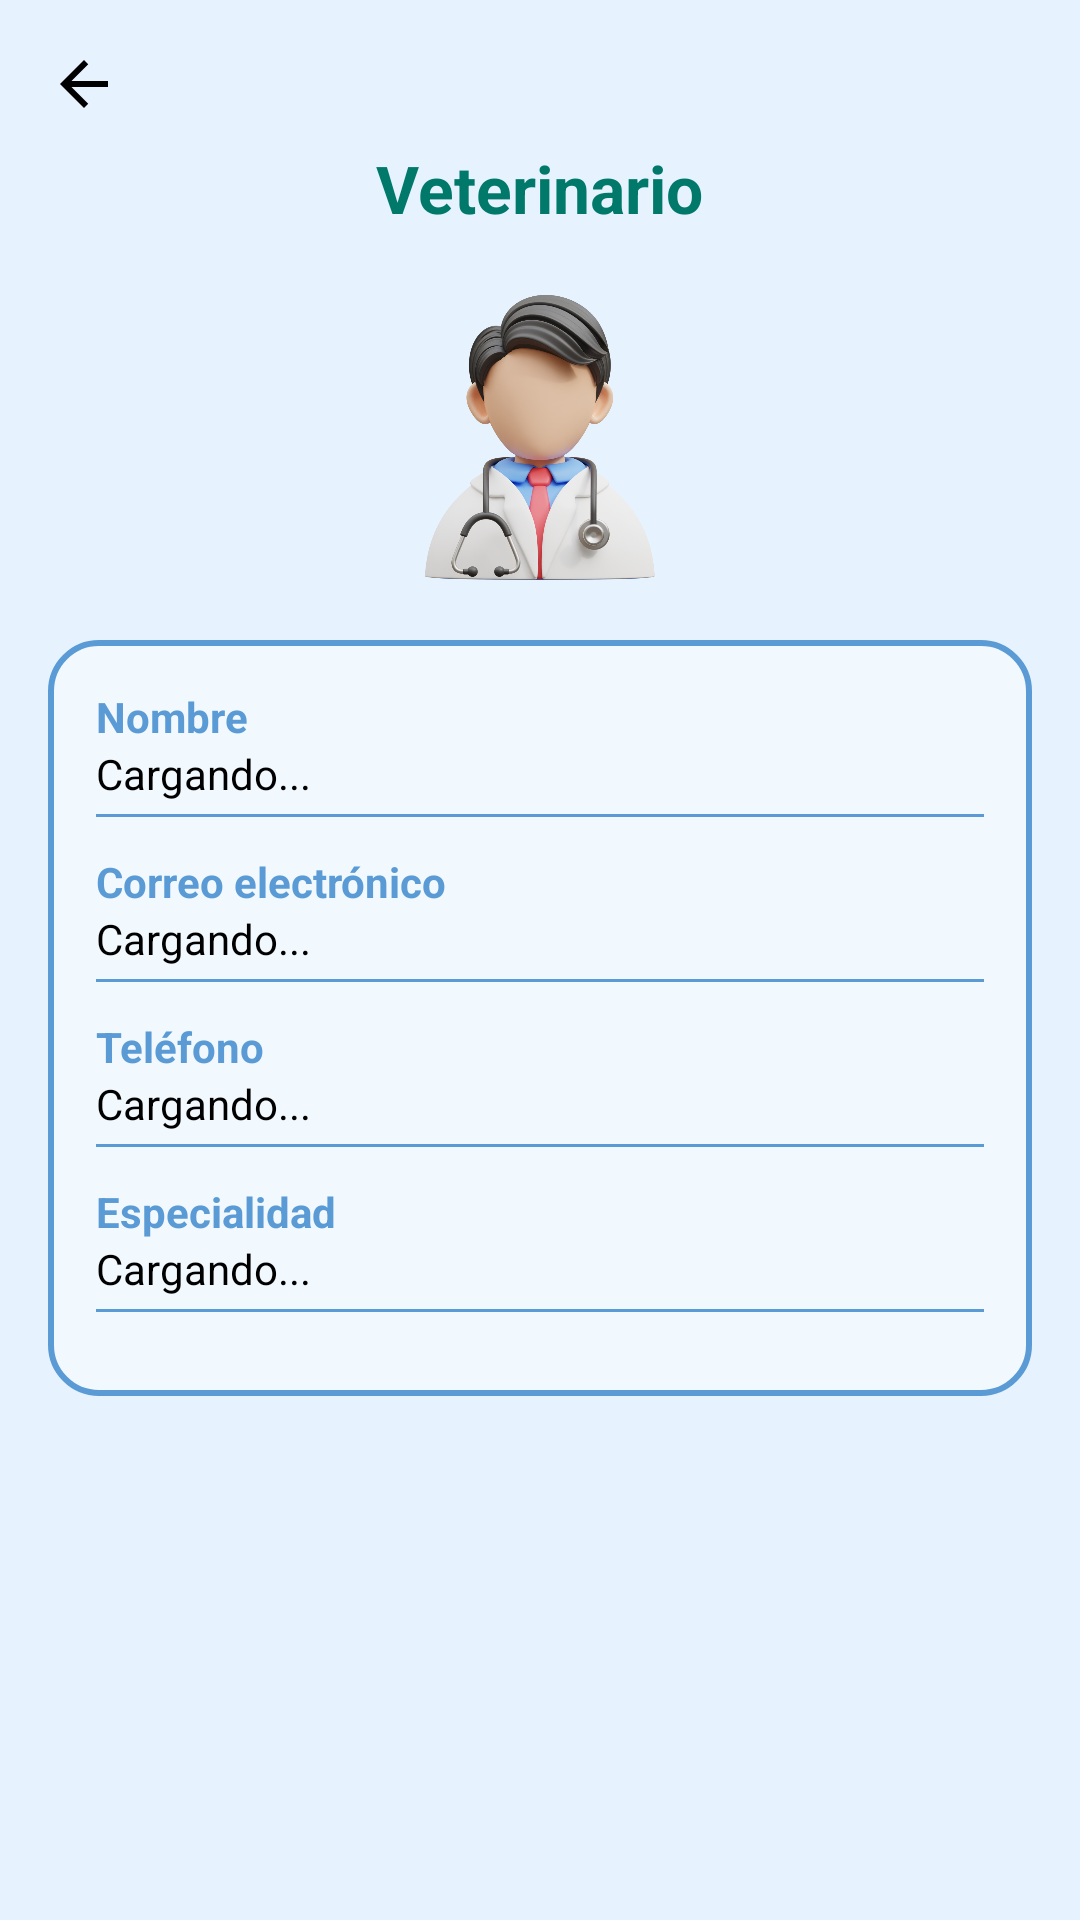

Named icons in this screenshot (1080*1920) and their centers, (x=x, y=y):
Boton regresar: (x=84, y=84)
